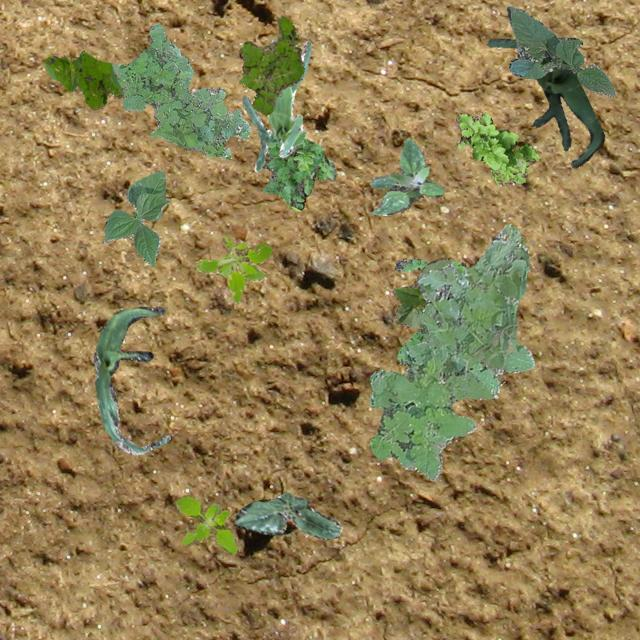crop: (486, 37, 604, 166), (92, 306, 170, 454), (506, 5, 616, 96), (242, 38, 310, 170), (102, 170, 168, 266), (234, 492, 340, 538), (392, 255, 452, 328)
weed: (368, 222, 534, 480), (110, 23, 250, 158), (394, 258, 466, 364), (238, 15, 304, 114), (454, 112, 538, 184), (369, 136, 444, 214), (262, 137, 336, 210), (194, 235, 270, 302), (44, 50, 122, 109), (176, 494, 238, 554)
